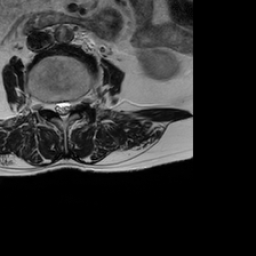CCS_normal: (59, 91, 66, 130)
LFS_normal: (74, 86, 82, 116)
LLS_normal: (66, 92, 74, 123)
RFS_normal: (45, 91, 52, 118)
RLS_normal: (52, 91, 59, 123)
